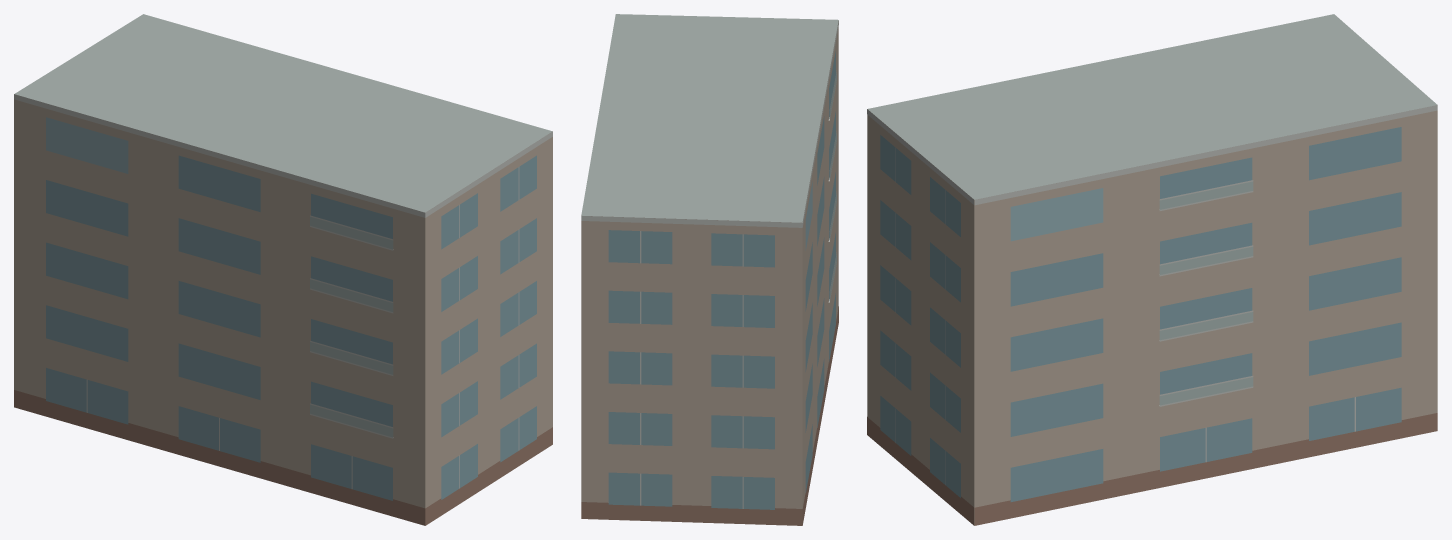
File: survey-upis-32933343.glb
The picture shows the model from 3 angles, left to right: view 1: azimuth 30°, elevation 25°; view 2: azimuth 150°, elevation 25°; view 3: azimuth 270°, elevation 25°; orthographic projection. The views are drawn at different scales.
Parts seen in each view (by area): view 1: survey-upis-32933343.tmp; view 2: survey-upis-32933343.tmp; view 3: survey-upis-32933343.tmp.
Boxes of the visible parts, <box> form: survey-upis-32933343.tmp: <box>14,14,552,525</box>; survey-upis-32933343.tmp: <box>581,14,838,525</box>; survey-upis-32933343.tmp: <box>867,14,1437,525</box>.
Size of the model in its own units: 17.61 by 14.4 by 22.85.
